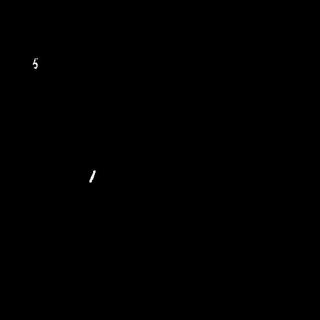five: (28, 55, 43, 70)
one: (89, 167, 100, 185)
